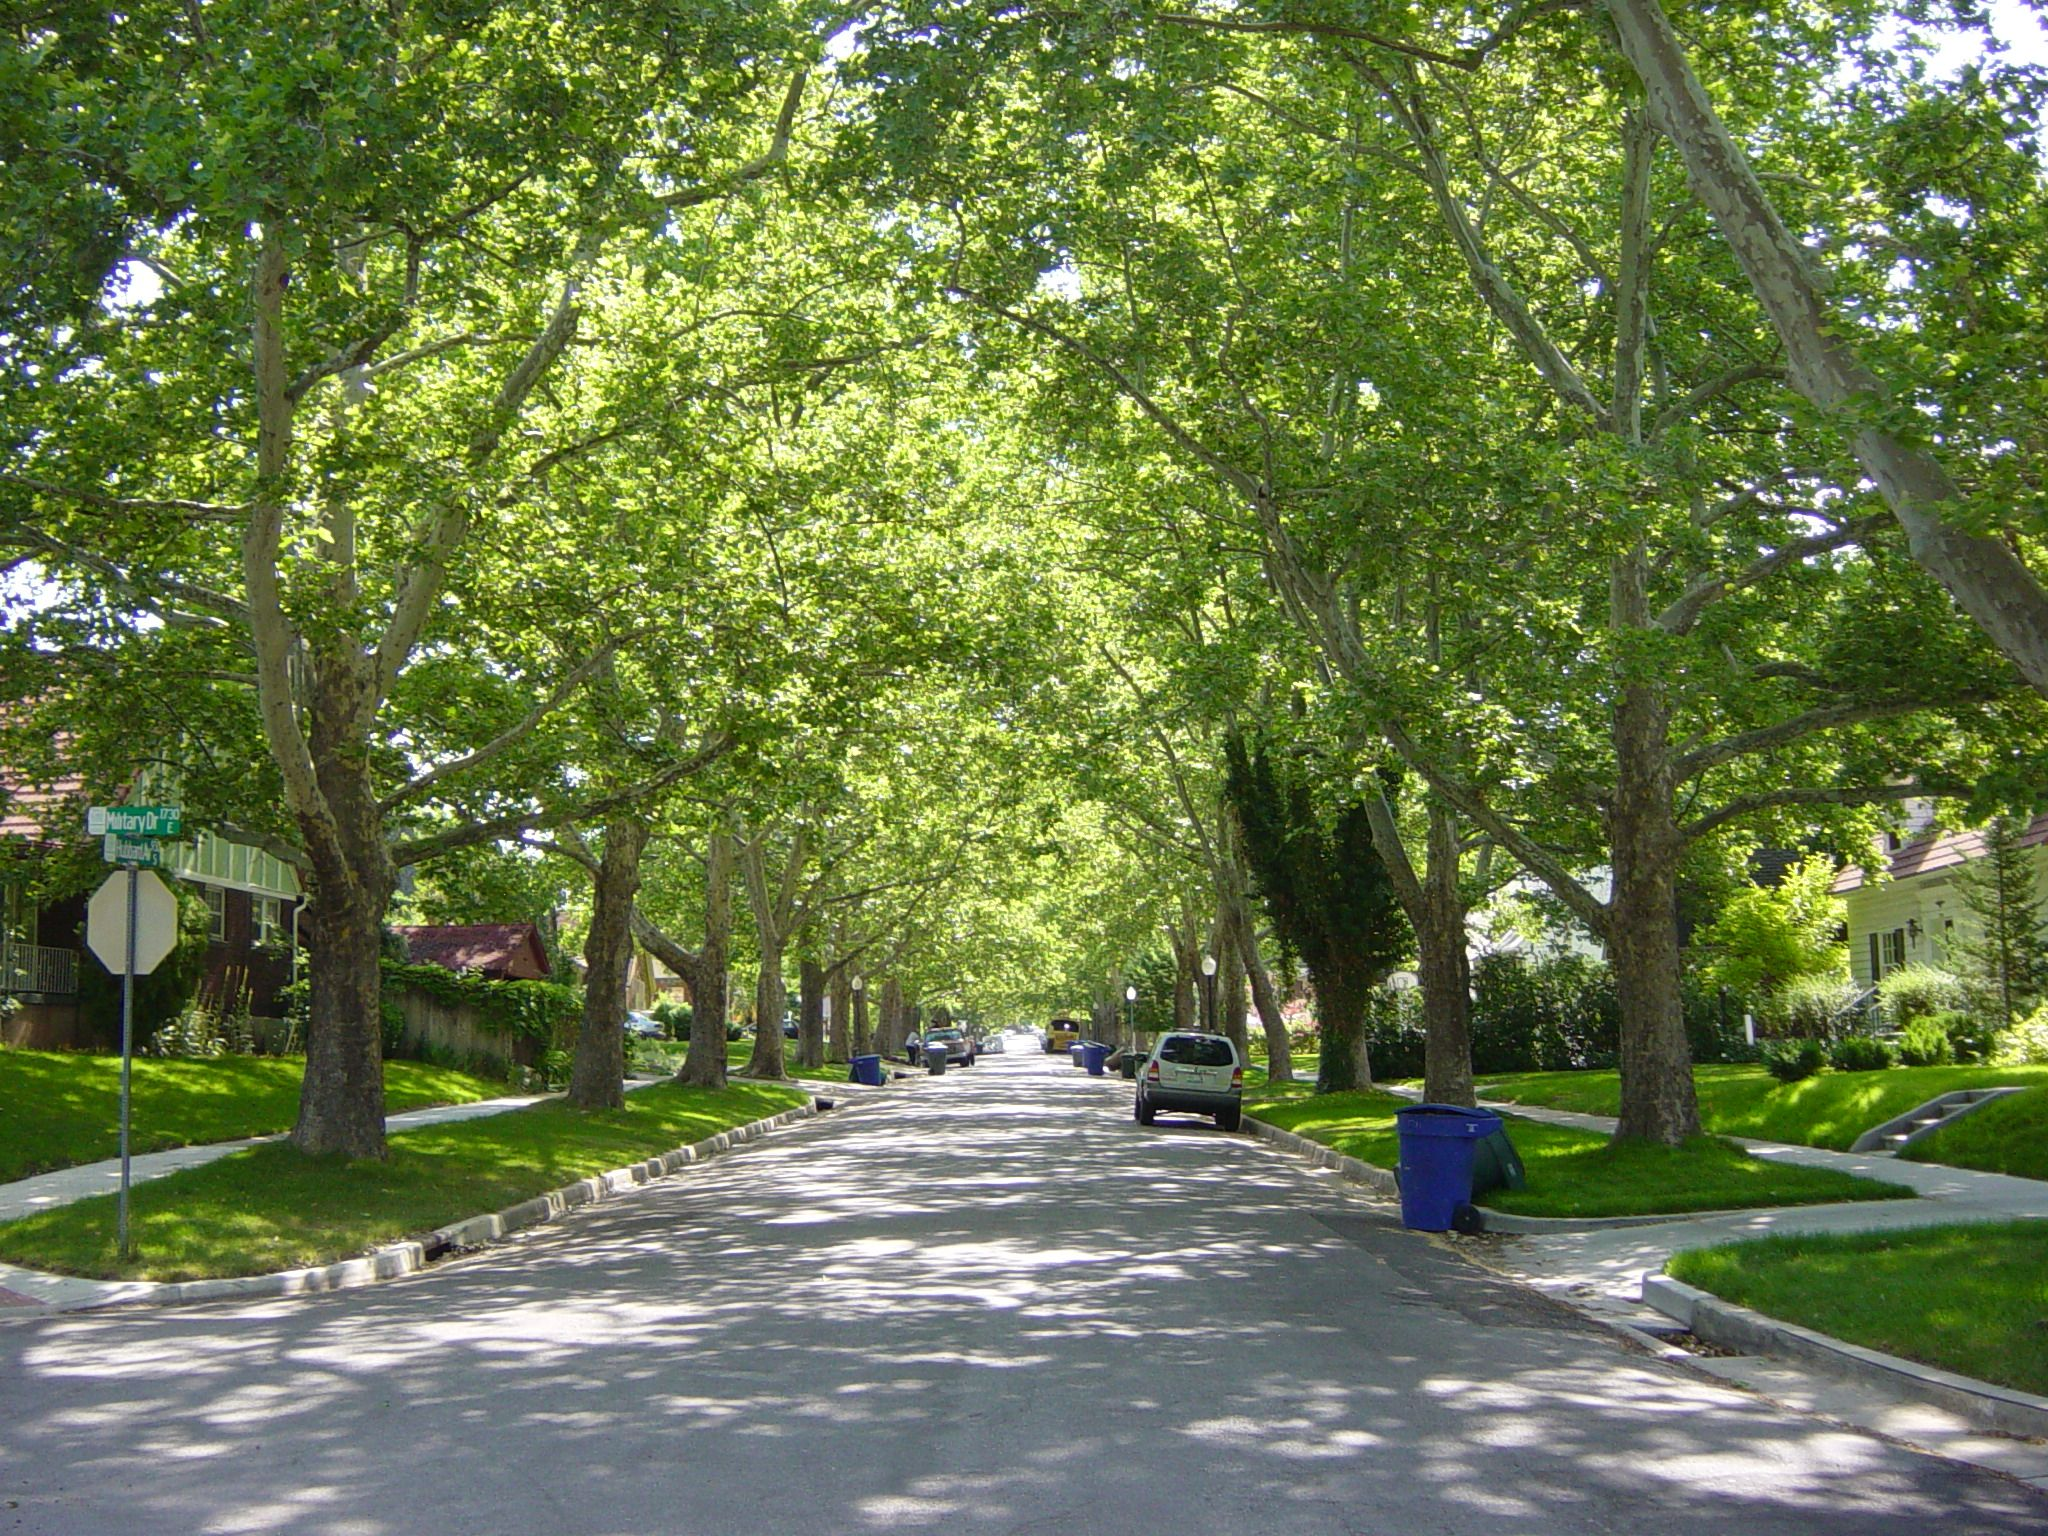tree: (68, 15, 563, 1226)
